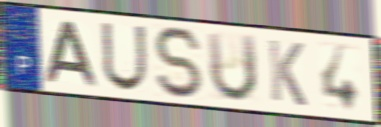4: (320, 42, 364, 114)
A: (43, 19, 100, 89)
K: (266, 37, 309, 109)
S: (151, 24, 208, 101)
U: (205, 30, 260, 105), (99, 20, 148, 93)
